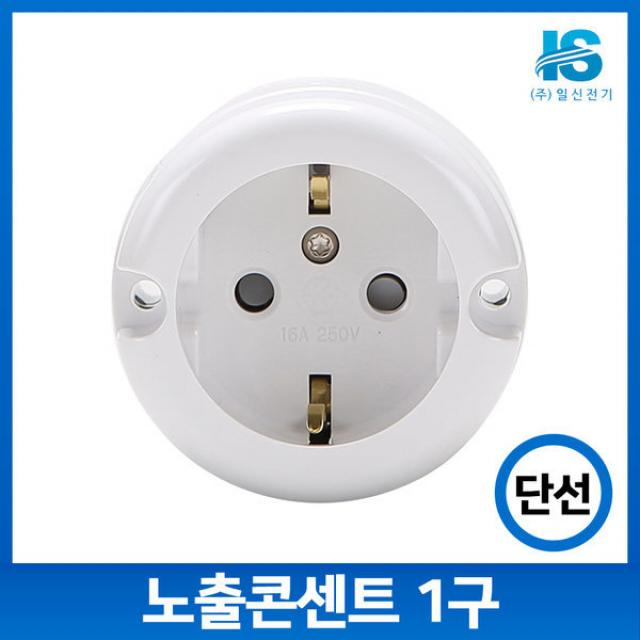typeb: (70, 58, 562, 526)
